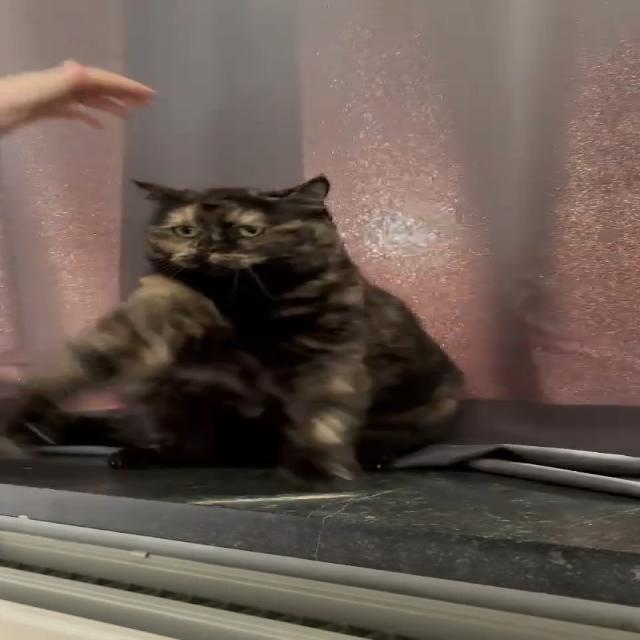authorized: (14, 173, 467, 482)
